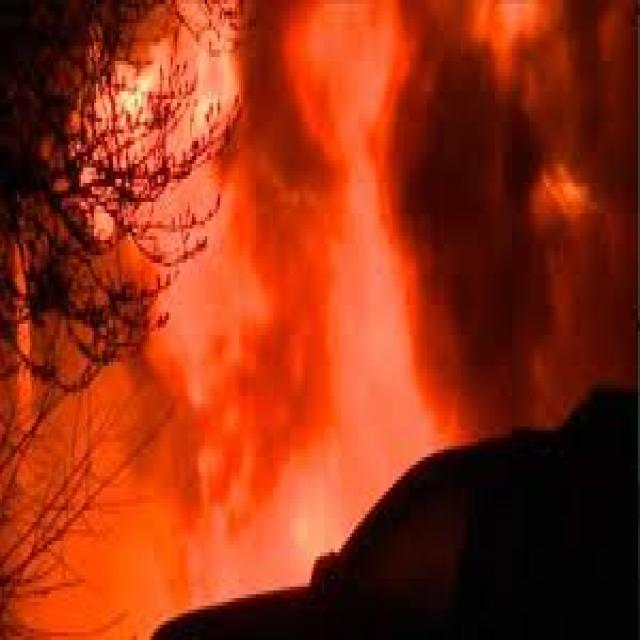Fire: (90, 48, 197, 186)
Smoke: (198, 15, 640, 498), (0, 213, 206, 640)
